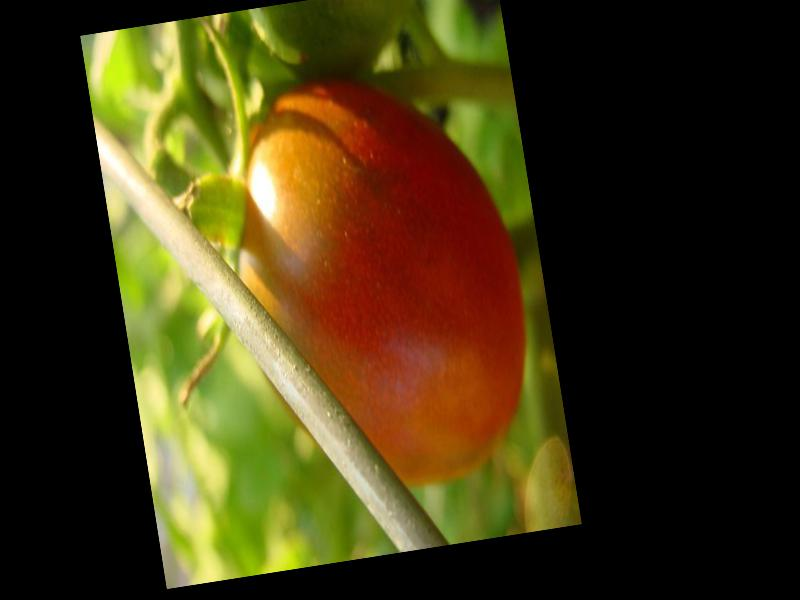Tomato: (213, 60, 547, 501)
